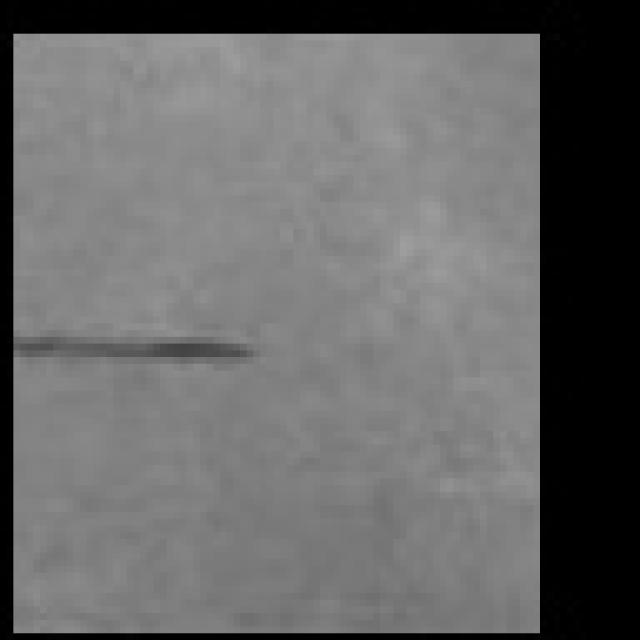Defect4: (3, 268, 267, 390)
